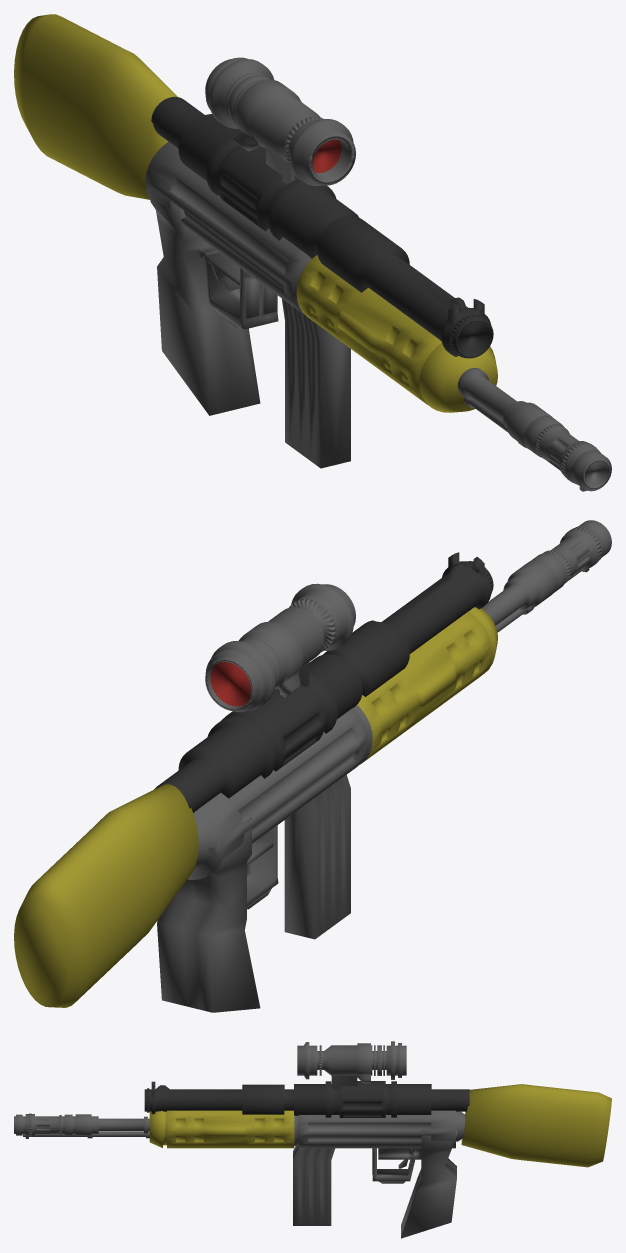
File: HKG3_Aksesoris_Scope1.fbx
3 views of the same model, one above another, from view 1: azimuth 30°, elevation 25°; view 2: azimuth 150°, elevation 25°; view 3: azimuth 270°, elevation 25° (orthographic). The views are drawn at different scales.
Parts seen in each view (by area): view 1: Objek HKG 4, Objek HKG 2, Objek HKG 6, Objek HKG 7, Objek HKG 10, Objek HKG 5, Objek HKG 1; view 2: Objek HKG 6, Objek HKG 4, Objek HKG 2, Objek HKG 7, Objek HKG 10, Objek HKG 5, Objek HKG 1; view 3: Objek HKG 2, Objek HKG 6, Objek HKG 4, Objek HKG 7, Objek HKG 10, Objek HKG 5, Objek HKG 1, Objek HKG 3.
Boxes of the visible parts, x1,y1,x2,y2 form: Objek HKG 4: [151, 96, 493, 358]; Objek HKG 2: [145, 141, 497, 412]; Objek HKG 6: [14, 14, 177, 199]; Objek HKG 7: [145, 172, 278, 415]; Objek HKG 10: [205, 57, 355, 185]; Objek HKG 5: [281, 298, 350, 468]; Objek HKG 1: [457, 368, 611, 491]; Objek HKG 6: [14, 784, 198, 1007]; Objek HKG 4: [154, 552, 493, 812]; Objek HKG 2: [187, 607, 497, 879]; Objek HKG 7: [157, 817, 278, 1012]; Objek HKG 10: [205, 583, 355, 712]; Objek HKG 5: [284, 775, 350, 939]; Objek HKG 1: [481, 520, 611, 625]; Objek HKG 2: [149, 1110, 465, 1148]; Objek HKG 6: [461, 1084, 611, 1167]; Objek HKG 4: [144, 1081, 469, 1117]; Objek HKG 7: [372, 1130, 457, 1238]; Objek HKG 10: [297, 1041, 406, 1088]; Objek HKG 5: [293, 1146, 335, 1225]; Objek HKG 1: [14, 1113, 149, 1138]; Objek HKG 3: [23, 1131, 149, 1138].
Size of the model in its own units: 55.47 by 220 by 631.
